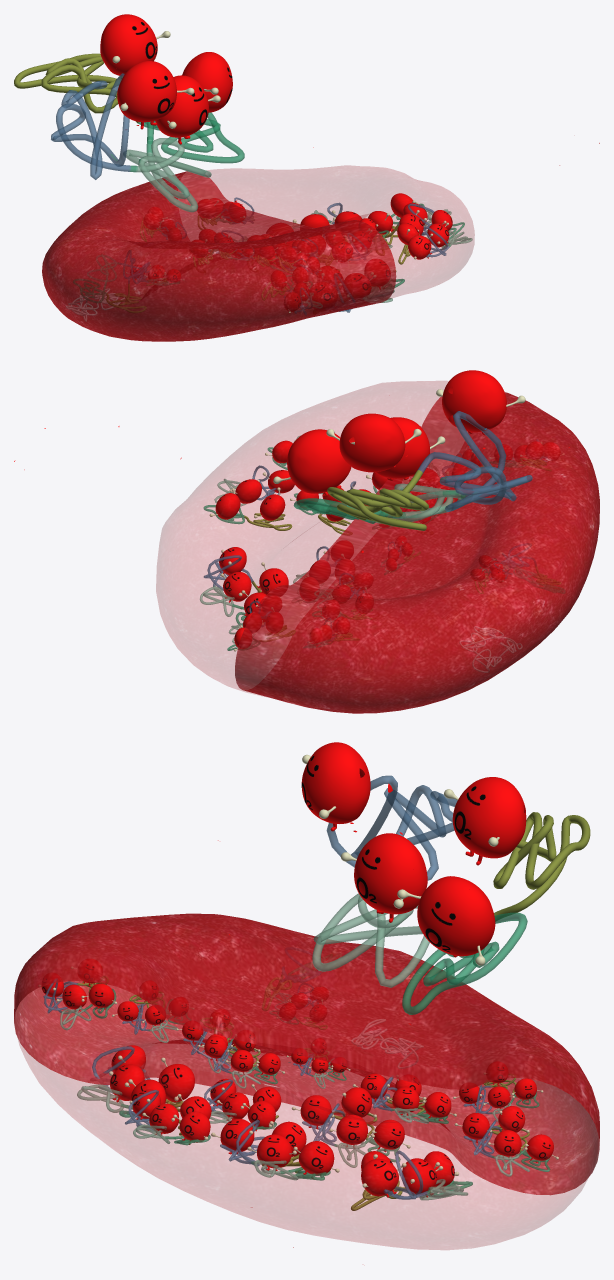
Rendered from platelet.original-alpha.glb.
The picture shows the model from 3 angles, top to bottom: view 1: azimuth 30°, elevation 25°; view 2: azimuth 150°, elevation 25°; view 3: azimuth 270°, elevation 25°; orthographic projection. The views are drawn at different scales.
Parts seen in each view (by area): view 1: blood.015_0, blood.001_26, Cube.019_32, Cube.059_72, Cube.012_27, Cube.075_88, Cube.077_96, Cube.043_56, Cube.013_28, Cube.009_23, Cube.017_95, Cube.001_15 (+9 smaller); view 2: blood.015_0, blood.001_26, Cube.019_32, Cube.017_95, Cube.013_28, Cube.060_73, Cube.015_30, Cube.076_89, Cube.011_25, Cube.010_24, Cube.003_17, Cube.044_57 (+9 smaller); view 3: blood.015_0, blood.001_26, Cube.019_32, Cube.013_28, Cube.011_25, Cube.017_95, Cube.014_29, Cube.012_27, Cube.075_88, Cube.043_56, Cube.010_24, Cube.077_96 (+15 smaller).
Part boxes in pixels (x1,y1,x2,y2): blood.015_0: (42,171,396,341); blood.001_26: (177,165,474,305); Cube.019_32: (14,53,244,212); Cube.059_72: (123,61,176,122); Cube.012_27: (309,259,404,312); Cube.075_88: (107,14,157,74); Cube.077_96: (397,210,472,264); Cube.043_56: (164,75,208,137); Cube.013_28: (368,193,451,255); Cube.009_23: (325,218,392,264); Cube.017_95: (266,202,361,270); Cube.001_15: (261,267,322,314); blood.015_0: (235,392,599,713); blood.001_26: (156,381,448,696); Cube.019_32: (293,411,532,530); Cube.017_95: (200,547,288,625); Cube.013_28: (203,465,294,530); Cube.060_73: (442,373,505,432); Cube.015_30: (288,430,351,493); Cube.076_89: (339,421,405,472); Cube.011_25: (293,541,354,603); Cube.010_24: (227,596,295,651); Cube.003_17: (312,572,373,621); Cube.044_57: (375,421,429,478); blood.015_0: (14,913,599,1195); blood.001_26: (14,1019,598,1249); Cube.019_32: (312,775,590,1014); Cube.013_28: (211,1119,339,1180); Cube.011_25: (291,1087,410,1167); Cube.017_95: (351,1150,472,1210); Cube.014_29: (417,878,489,956); Cube.012_27: (77,1045,194,1117); Cube.075_88: (452,777,515,857); Cube.043_56: (354,833,414,914); Cube.010_24: (454,1106,558,1176); Cube.077_96: (125,1089,211,1145).
Size of the model in its own units: 19.47 by 10.31 by 14.66.
11 materials, 4 textured.
